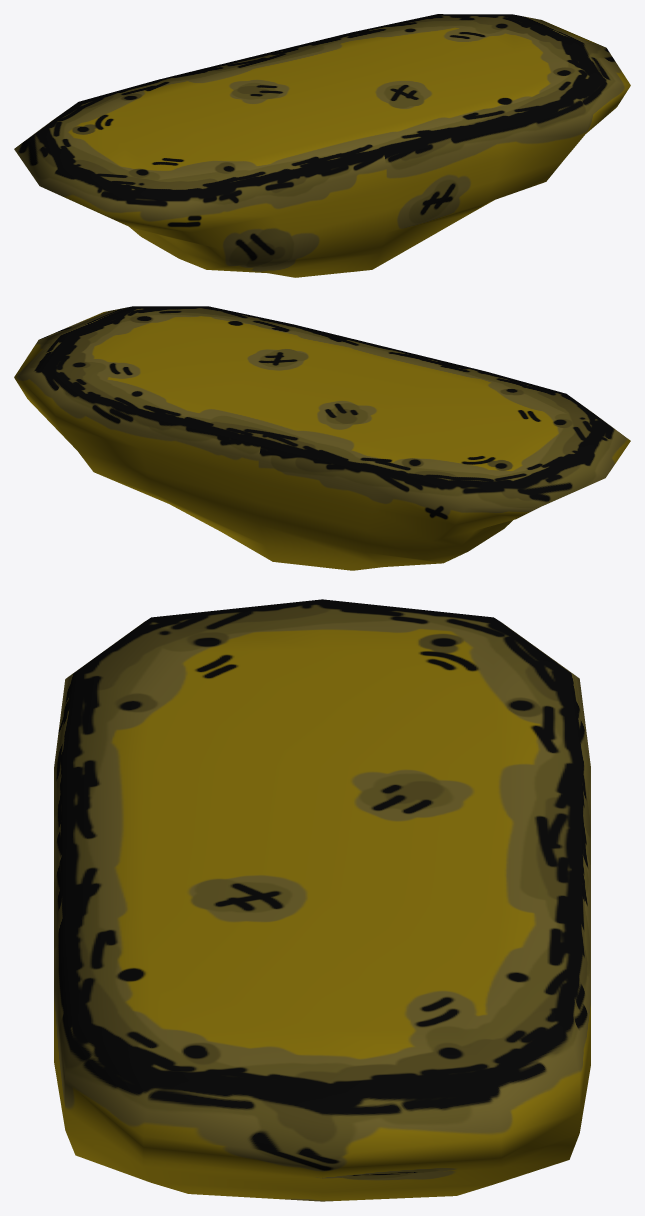
File: Island.fbx
The picture shows the model from 3 angles, top to bottom: view 1: azimuth 30°, elevation 25°; view 2: azimuth 150°, elevation 25°; view 3: azimuth 270°, elevation 25°; orthographic projection. The views are drawn at different scales.
Visible parts, largest first — view 1: Cube.005; view 2: Cube.005; view 3: Cube.005.
Part boxes in pixels (left/top/right/bottom): Cube.005: left=14, top=14, right=630, bottom=277; Cube.005: left=14, top=306, right=630, bottom=570; Cube.005: left=54, top=599, right=590, bottom=1201.
Bounding box in the file's own units: 698 × 184 × 286.
